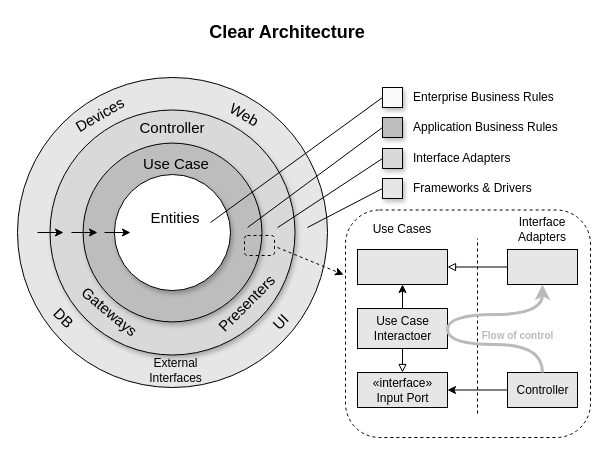
Image size: 608x464. Some labels were removed from this diagram. The shapes that lost their labels are listed below. From the top down, each one's centre as x and y in pixels, then its label:
At [402,266]: "«interface» Output Port".
At [542,266]: "Preseter".
